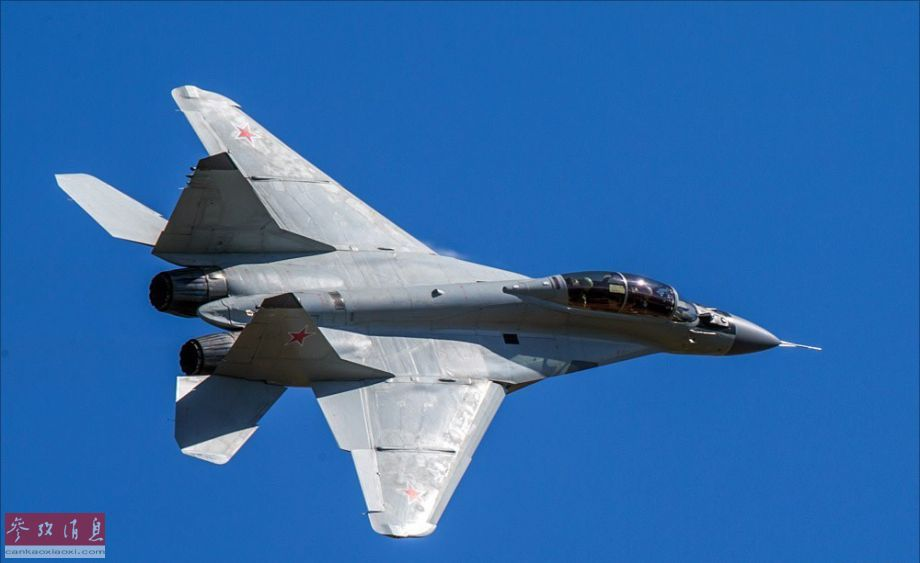airplane: (48, 70, 824, 535)
